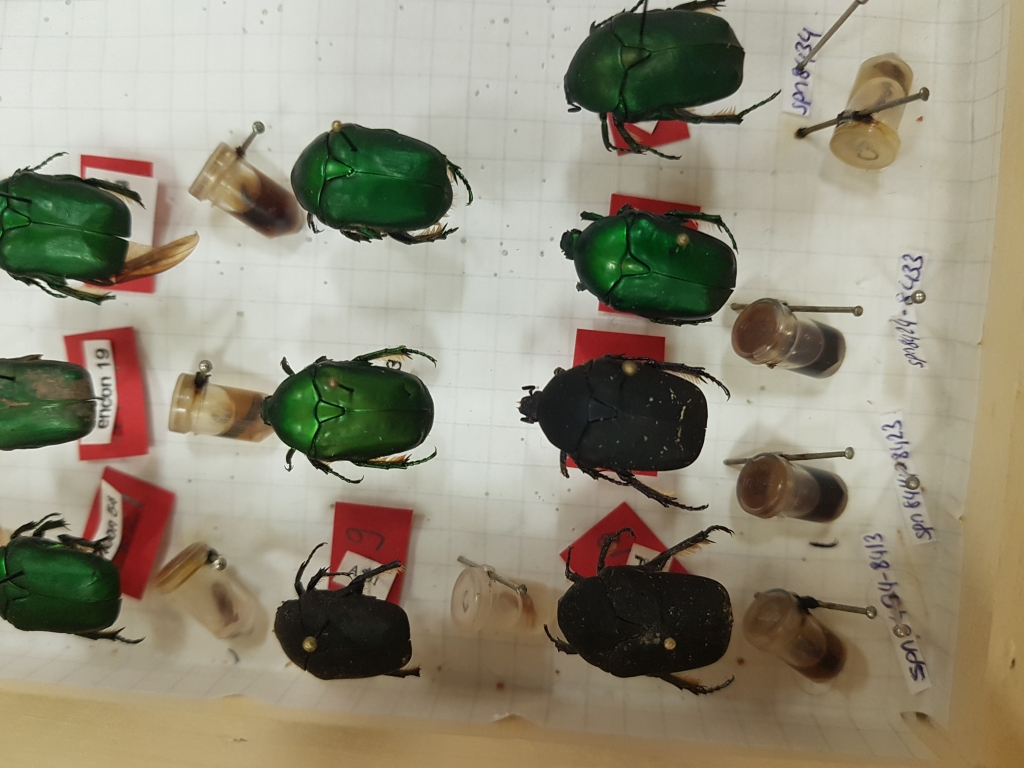Protaetia_ungarica_americana: (523, 510, 770, 705), (546, 1, 781, 189), (511, 351, 734, 514), (259, 335, 450, 491), (263, 549, 448, 696), (293, 115, 492, 249), (547, 198, 747, 325)
